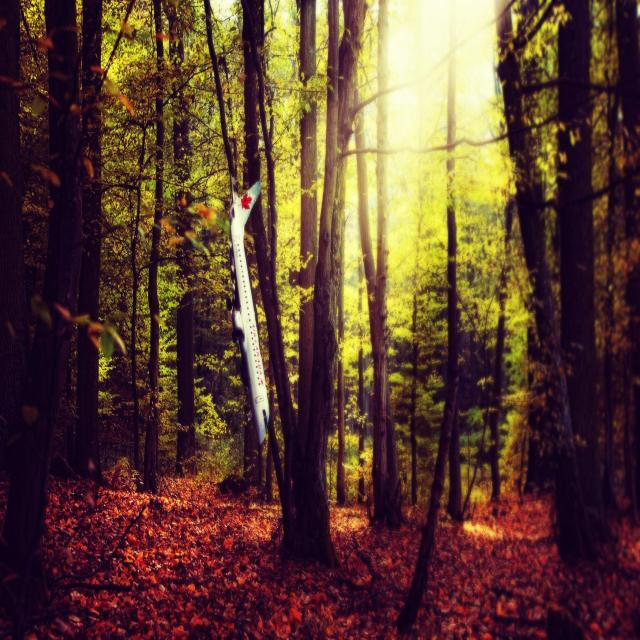airplane: (226, 174, 270, 445)
